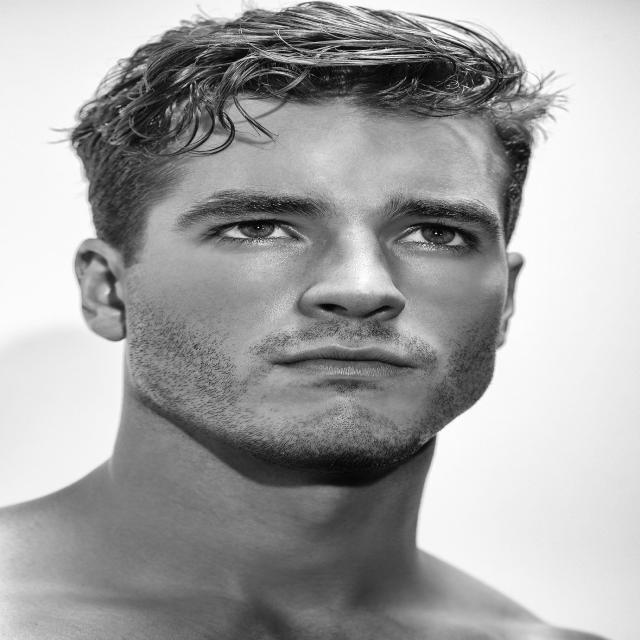earlobe: (74, 238, 128, 342), (495, 252, 525, 350)
